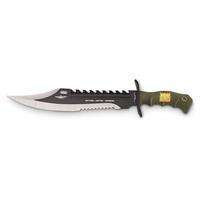knife: (3, 76, 197, 124)
